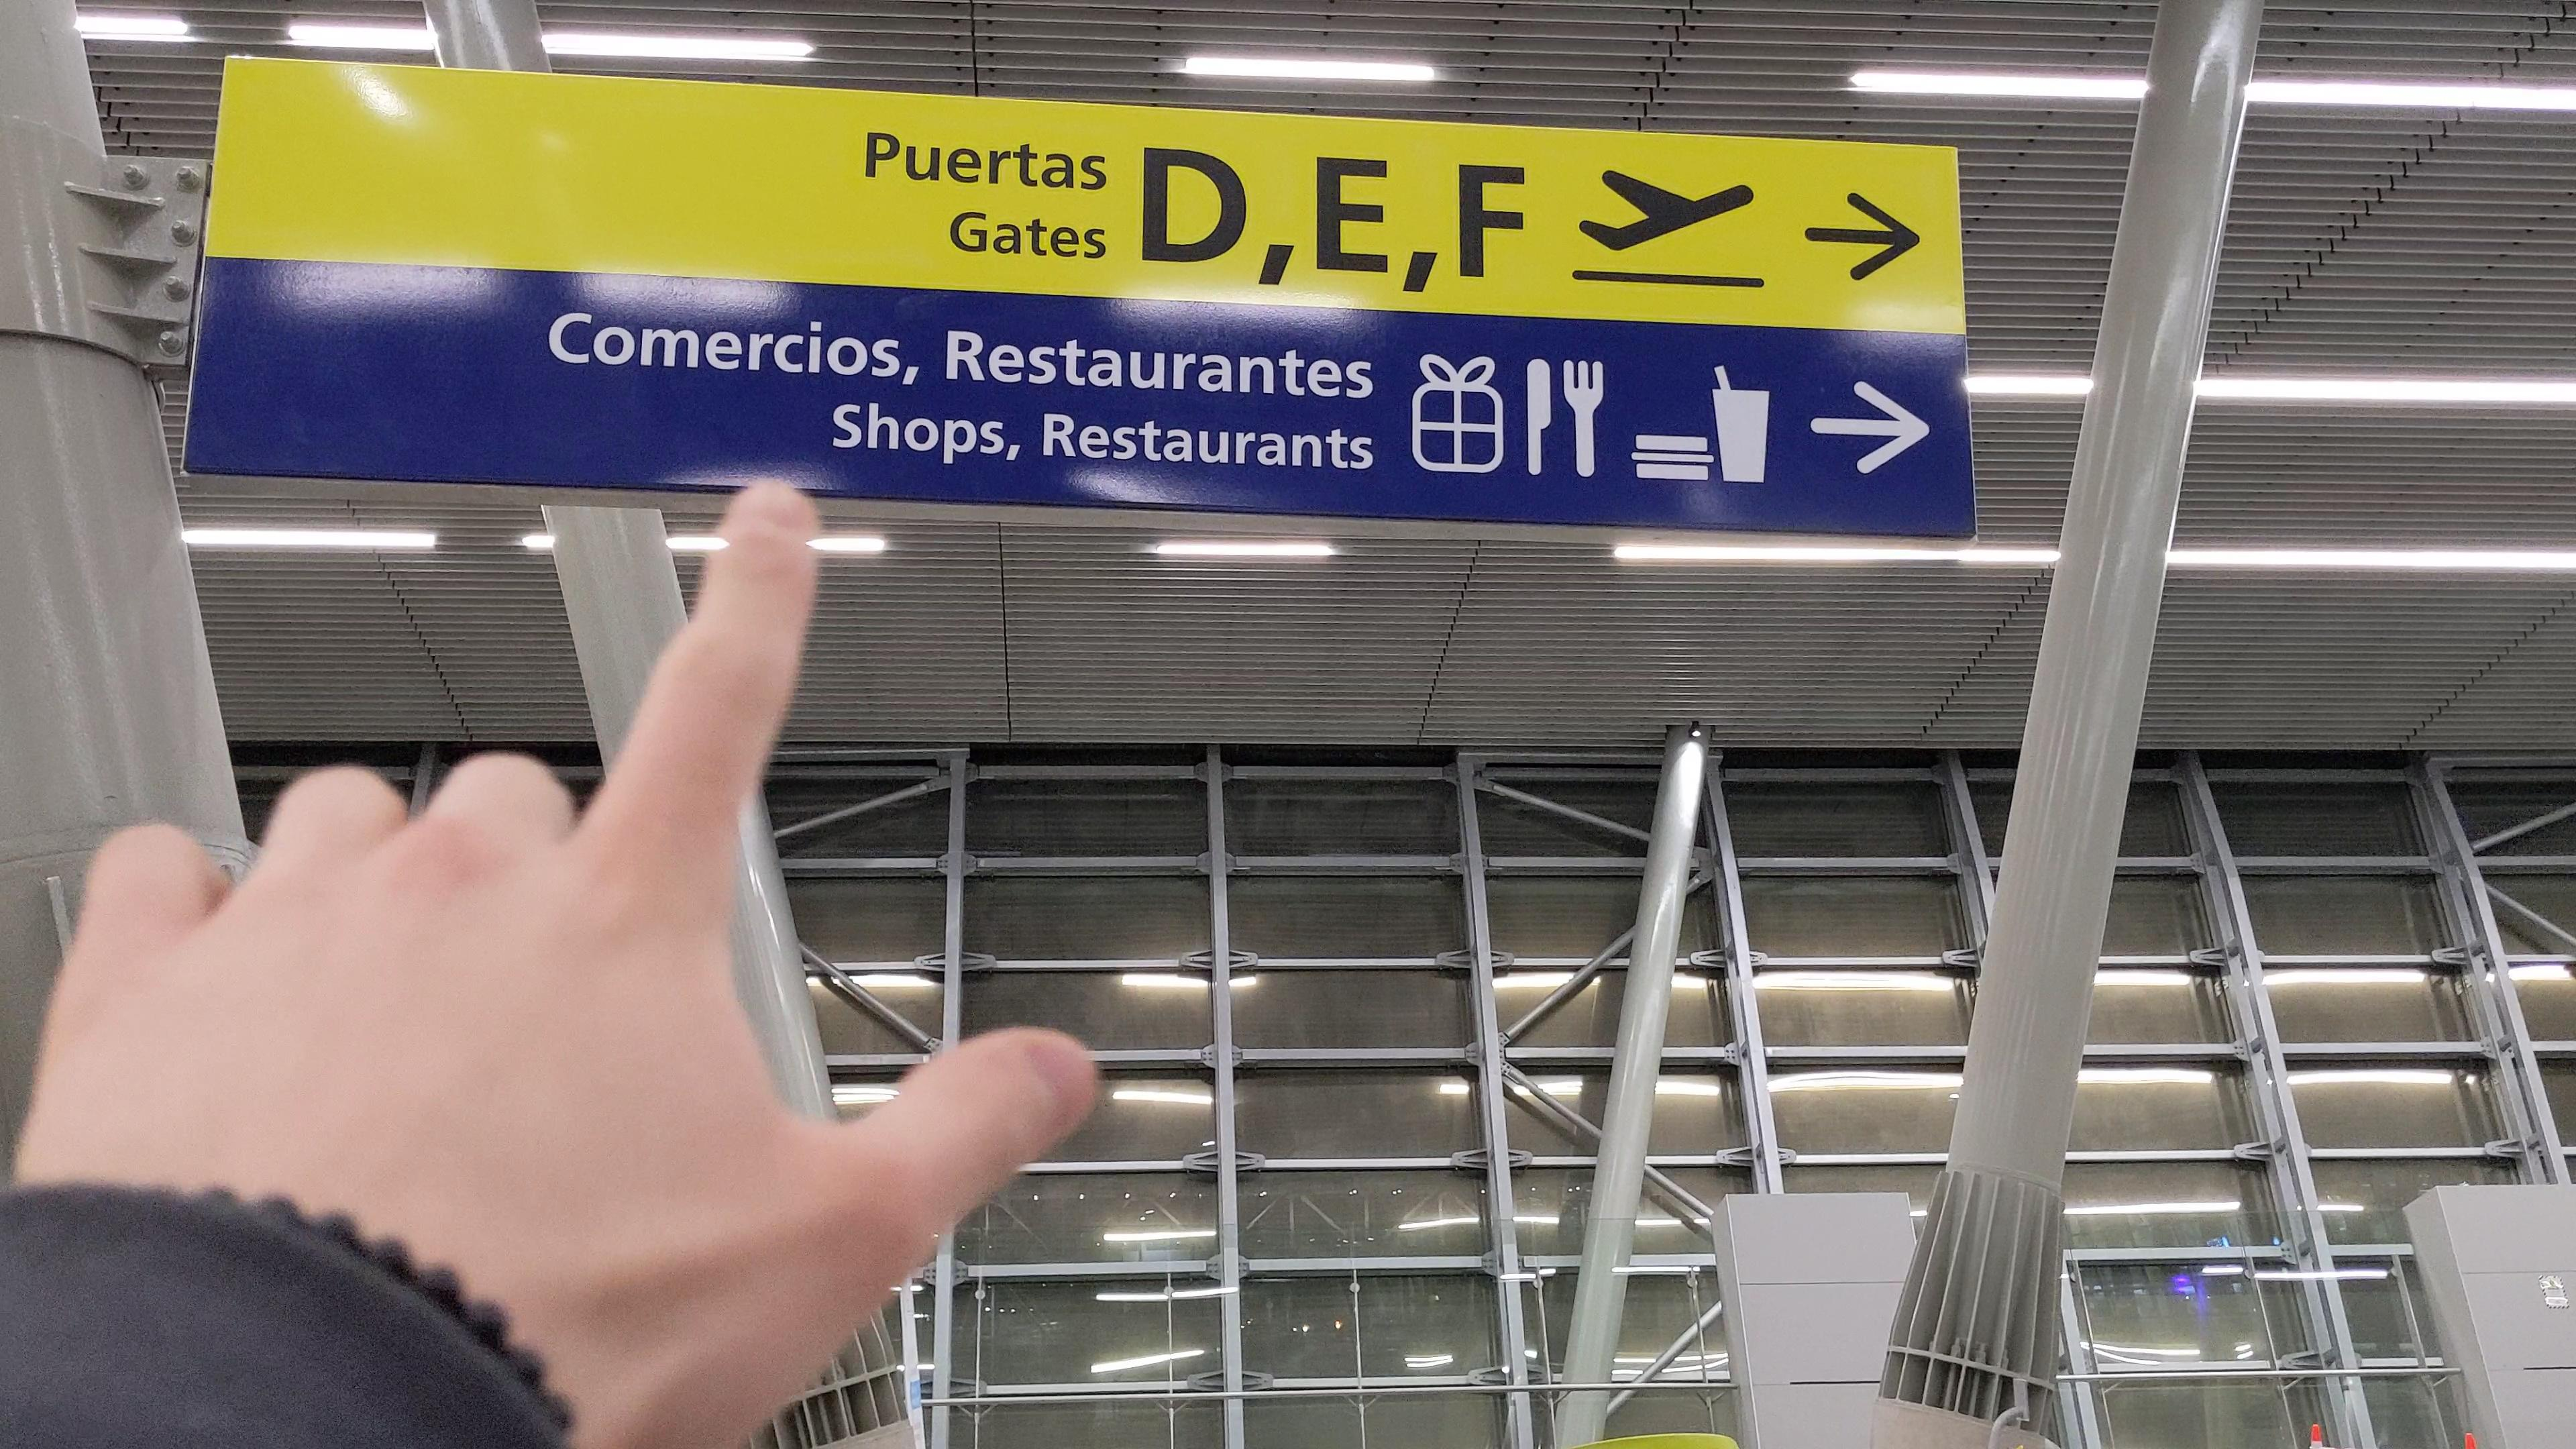airplane symbol: (1573, 159, 1760, 260)
restaurants: (1516, 350, 1612, 485)
thin right arrow: (1796, 366, 1943, 483), (1801, 188, 1925, 288)
